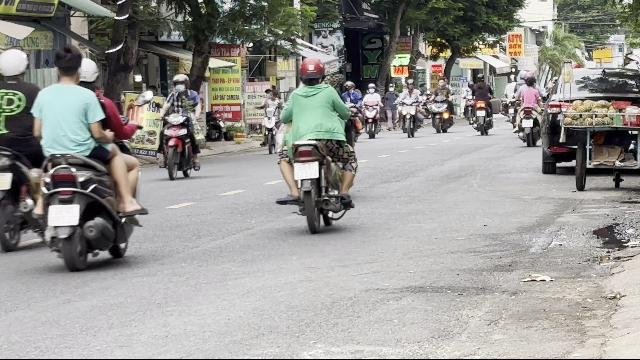helmet: (0, 48, 28, 82), (296, 56, 324, 86), (77, 57, 99, 87), (172, 73, 190, 91)
licenseplate: (49, 204, 79, 224), (294, 161, 318, 177)
motorcyclist: (30, 47, 148, 272), (273, 55, 361, 233), (0, 47, 44, 250), (155, 72, 203, 178)
nohelmet: (52, 46, 82, 82)
